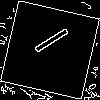I: (25, 25, 71, 61)
